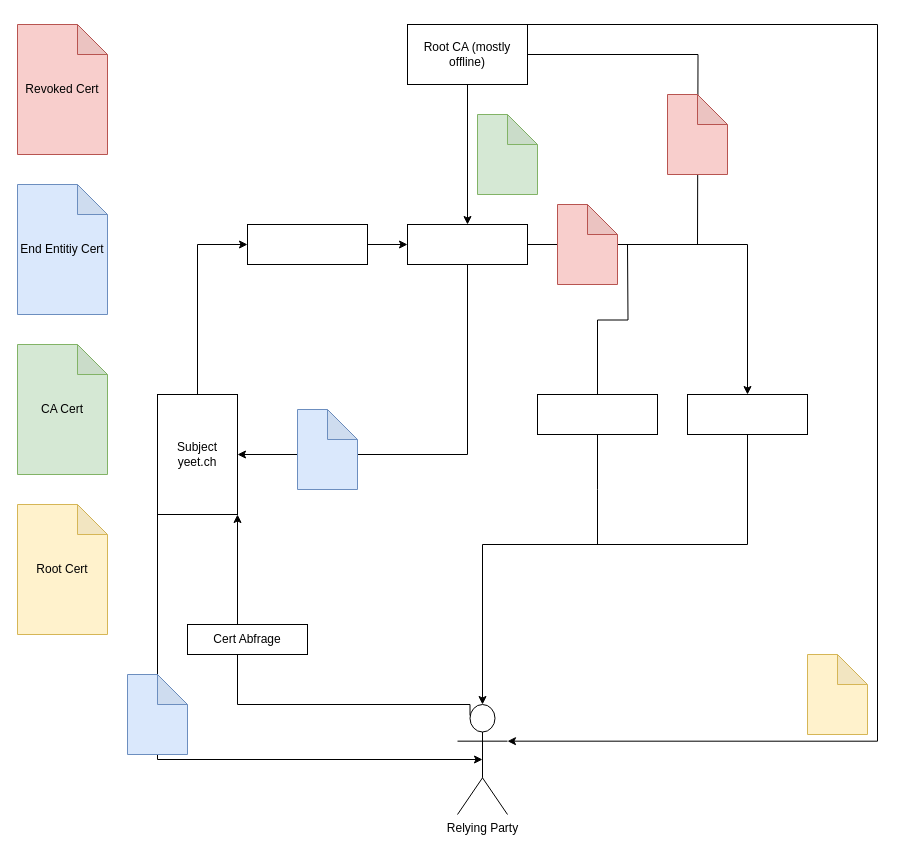
The diagram is 903 pixels wide and 853 high, and some of its shapes have lost their labels. The shapes that lost their labels are listed below. From the top down, each one's box as (x1, y1, x2, y2) in pixels, then its label:
(246, 224, 368, 264): Registration Auth
(406, 224, 528, 264): Certificate Auth
(536, 394, 658, 434): OCSP-Responder
(686, 394, 808, 434): CRL Distributor
